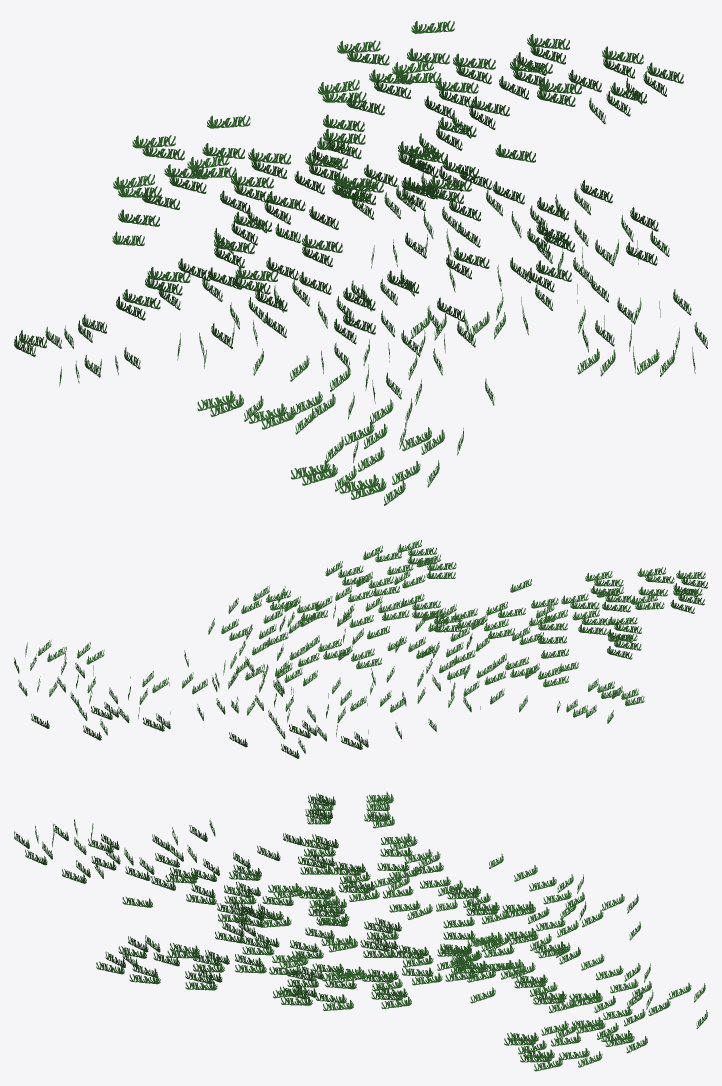
The model's file is Grass.fbx.
The picture shows the model from 3 angles, top to bottom: view 1: azimuth 30°, elevation 25°; view 2: azimuth 150°, elevation 25°; view 3: azimuth 270°, elevation 25°; orthographic projection. The views are drawn at different scales.
Visible parts, largest first — view 1: Grass; view 2: Grass; view 3: Grass.
Boxes of the visible parts, left/top/right/bottom form: Grass: left=14, top=20, right=707, bottom=505; Grass: left=14, top=540, right=707, bottom=758; Grass: left=14, top=792, right=707, bottom=1071.
Bounding box in the file's own units: 5547 × 150 × 5926.
